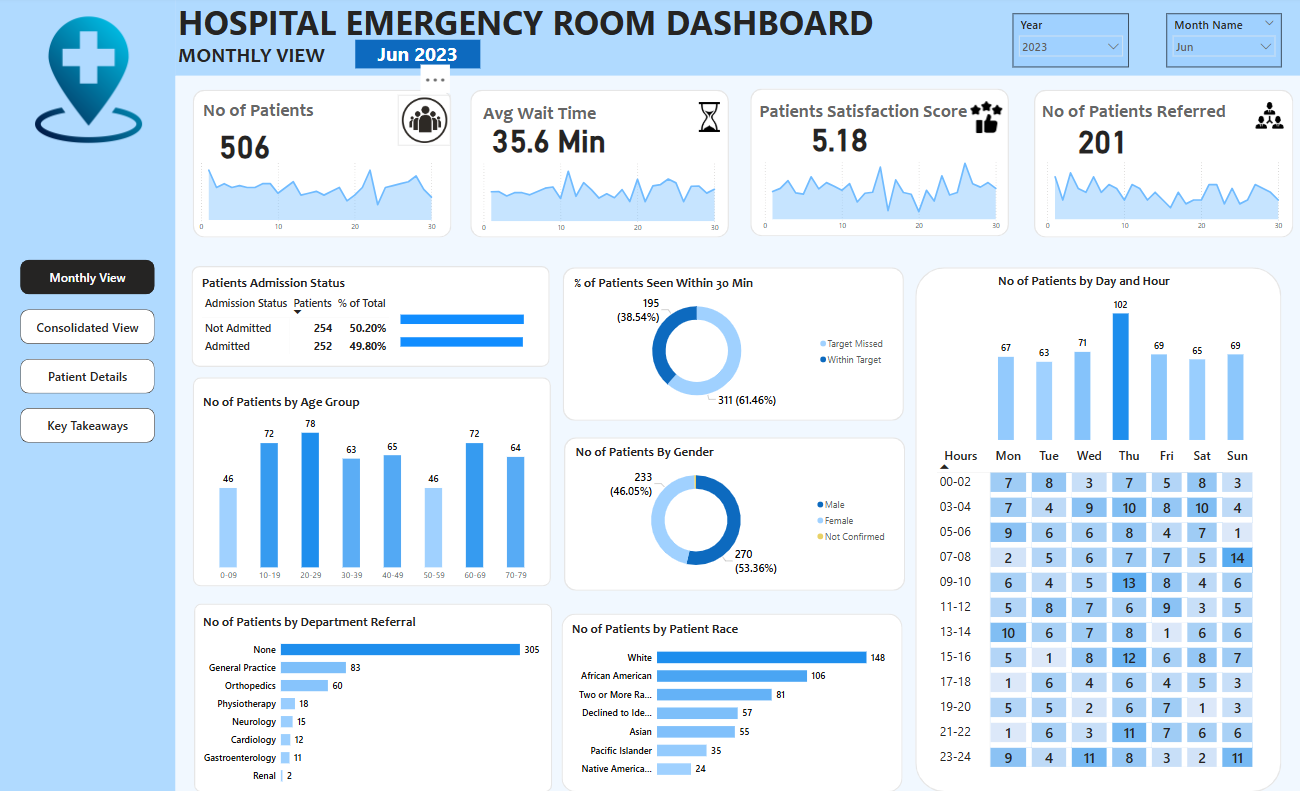

Layout of this report page (visuals, bound fields, positions):
{"tool":"powerbi","page":{"name":"Monthly View","canvas":[2300,1400],"ordinal":0},"visuals":[{"type":"shape","box":[340,164,455,260],"z":0},{"type":"card","fields":{"Values":["Hospital ER_Data.No Of Patients"]},"box":[353.3,206.7,155,105],"z":1000},{"type":"shape","box":[0,0,310,1400],"z":2000},{"type":"shape","box":[310,0,1990,140],"z":3000},{"type":"textbox","box":[310,0,1363.1,175.9],"z":4000},{"type":"textbox","box":[310,77.3,494,70.7],"z":5000},{"type":"slicer","fields":{"Values":["Date Table.Year"]},"box":[1782,30,204,94],"z":6000},{"type":"slicer","fields":{"Values":["Date Table.Month Name"]},"box":[2054,30,202,94],"z":7000},{"type":"areaChart","fields":{"Y":["Hospital ER_Data.No Of Patients"],"Category":["Date Table.Date.Variation.Date Hierarchy.Day"]},"box":[340,278.8,435,145],"z":8000},{"type":"card","fields":{"Values":["Min(Date Table.Month & Year)"]},"box":[626.6,76.9,219.9,50.6],"z":9000},{"type":"shape","box":[829.2,164.2,455,260],"z":10000},{"type":"shape","box":[1321.7,163.3,455,260],"z":11000},{"type":"shape","box":[1820,164,456,260],"z":12000},{"type":"textbox","box":[846.8,181.1,261.1,65.9],"z":13000},{"type":"card","fields":{"Values":["Hospital ER_Data.Avg Wait Time"]},"box":[855.2,213.3,224.2,70.4],"z":14000},{"type":"areaChart","fields":{"Category":["Date Table.Date.Variation.Date Hierarchy.Day"],"Y":["Avg(Hospital ER_Data.Patient Waittime)"]},"box":[838.3,280,435.8,145.8],"z":15000},{"type":"textbox","box":[1332.3,178.1,384.7,79.1],"z":16000},{"type":"card","fields":{"Values":["Hospital ER_Data.Satisfaction Score"]},"box":[1365.3,213.3,224.2,66],"z":17000},{"type":"areaChart","fields":{"Category":["Date Table.Date.Variation.Date Hierarchy.Day"],"Y":["Hospital ER_Data.Satisfaction Score"]},"box":[1332,278,436,146],"z":18000},{"type":"textbox","box":[1830,178,426,68],"z":19000},{"type":"card","fields":{"Values":["Hospital ER_Data.No Of Patients Referred"]},"box":[1829.2,208.9,224.2,83.5],"z":20000},{"type":"areaChart","fields":{"Category":["Date Table.Date.Variation.Date Hierarchy.Day"],"Y":["Hospital ER_Data.No Of Patients Referred"]},"box":[1830,278,436,146],"z":21000},{"type":"shape","box":[337.5,475,630,177.5],"z":22000},{"type":"pivotTable","title":"Patients Admission Status","fields":{"Rows":["Hospital ER_Data.Admission Status"],"Values":["Hospital ER_Data.No of Patients1","Hospital ER_Data.No of Patients"]},"box":[352.5,490,606.2,162.5],"z":23000},{"type":"barChart","fields":{"Category":["Hospital ER_Data.Admission Status"],"Y":["Hospital ER_Data.No of Patients"]},"box":[701.2,527.5,266.2,117.5],"z":24000},{"type":"shape","box":[341.2,671.2,630,368],"z":25000},{"type":"clusteredColumnChart","fields":{"Category":["Hospital ER_Data.Age Group"],"Y":["Hospital ER_Data.No of Patients"]},"box":[354,700,606,340],"z":26000},{"type":"shape","box":[342,1068,630,332],"z":27000},{"type":"clusteredBarChart","fields":{"Category":["Hospital ER_Data.Department Referral"],"Y":["Hospital ER_Data.No of Patients"]},"box":[354,1086,604,314],"z":28000},{"type":"shape","box":[992,478,600,270],"z":29000},{"type":"donutChart","title":"% of Patients Seen Within 30 Min","fields":{"Category":["Hospital ER_Data.WaitTime Status"],"Y":["Hospital ER_Data.No of Patients"]},"box":[1008,490,562,240],"z":30000},{"type":"shape","box":[993.2,776.4,600,270],"z":31000},{"type":"donutChart","title":"No of Patients By Gender","fields":{"Y":["Hospital ER_Data.No of Patients"],"Category":["Hospital ER_Data.Patient Gender"]},"box":[1009.1,787.5,562.8,241.8],"z":32000},{"type":"shape","box":[988.4,1085.5,600,314.5],"z":33000},{"type":"clusteredBarChart","fields":{"Y":["Hospital ER_Data.No of Patients"],"Category":["Hospital ER_Data.Patient Race"]},"box":[1001.4,1098.6,568.1,289.9],"z":34000},{"type":"shape","box":[1611.5,477.1,644.2,923.4],"z":35000},{"type":"pivotTable","fields":{"Rows":["Hospital ER_Data.Waittime Interval"],"Columns":["Date Table.Day Name"],"Values":["Hospital ER_Data.No of Patients"]},"box":[1644.5,787.1,600.2,584.8],"z":36000},{"type":"columnChart","title":"No of Patients by Day and Hour","fields":{"Category":["Date Table.Day Name"],"Y":["Hospital ER_Data.No of Patients"]},"box":[1752.2,485.9,444.1,301.2],"z":37000},{"type":"image","box":[39.6,30.8,235.2,233],"z":38000},{"type":"image","box":[1703.8,180.3,66,66],"z":39000},{"type":"image","box":[701.3,173.7,94.5,90.1],"z":40000},{"type":"image","box":[1207,175.9,85.7,72.6],"z":41000},{"type":"image","box":[2196.3,180.3,76.9,59.4],"z":42000},{"type":"textbox","box":[354,175.9,382.5,81.3],"z":43000},{"type":"pageNavigator","box":[37.4,463.9,237.4,323.2],"z":44000}]}

Visuals, with their boxes in screenshot pixels (x1, y1, x2, y2), scaled from the page's 2300x1400 canvas onto the 1300x791 screenshot:
shape: bbox(192, 93, 449, 240)
card - Hospital ER_Data.No Of Patients: bbox(200, 117, 287, 176)
shape: bbox(0, 0, 175, 790)
shape: bbox(175, 0, 1299, 79)
textbox: bbox(175, 0, 946, 99)
textbox: bbox(175, 44, 454, 84)
slicer - Date Table.Year: bbox(1007, 17, 1123, 70)
slicer - Date Table.Month Name: bbox(1161, 17, 1275, 70)
areaChart - Hospital ER_Data.No Of Patients x Date Table.Date.Variation.Date Hierarchy.Day: bbox(192, 158, 438, 239)
card - Min(Date Table.Month & Year): bbox(354, 43, 478, 72)
shape: bbox(469, 93, 726, 240)
shape: bbox(747, 92, 1004, 239)
shape: bbox(1029, 93, 1286, 240)
textbox: bbox(479, 102, 626, 140)
card - Hospital ER_Data.Avg Wait Time: bbox(483, 121, 610, 160)
areaChart - Date Table.Date.Variation.Date Hierarchy.Day x Avg(Hospital ER_Data.Patient Waittime): bbox(474, 158, 720, 241)
textbox: bbox(753, 101, 970, 145)
card - Hospital ER_Data.Satisfaction Score: bbox(772, 121, 898, 158)
areaChart - Date Table.Date.Variation.Date Hierarchy.Day x Hospital ER_Data.Satisfaction Score: bbox(753, 157, 999, 240)
textbox: bbox(1034, 101, 1275, 139)
card - Hospital ER_Data.No Of Patients Referred: bbox(1034, 118, 1161, 165)
areaChart - Date Table.Date.Variation.Date Hierarchy.Day x Hospital ER_Data.No Of Patients Referred: bbox(1034, 157, 1281, 240)
shape: bbox(191, 268, 547, 369)
"Patients Admission Status" pivotTable: bbox(199, 277, 542, 369)
barChart - Hospital ER_Data.Admission Status x Hospital ER_Data.No of Patients: bbox(396, 298, 547, 364)
shape: bbox(193, 379, 549, 587)
clusteredColumnChart - Hospital ER_Data.Age Group x Hospital ER_Data.No of Patients: bbox(200, 395, 543, 588)
shape: bbox(193, 603, 549, 790)
clusteredBarChart - Hospital ER_Data.Department Referral x Hospital ER_Data.No of Patients: bbox(200, 614, 541, 790)
shape: bbox(561, 270, 900, 423)
"% of Patients Seen Within 30 Min" donutChart: bbox(570, 277, 887, 412)
shape: bbox(561, 439, 901, 591)
"No of Patients By Gender" donutChart: bbox(570, 445, 888, 582)
shape: bbox(559, 613, 898, 790)
clusteredBarChart - Hospital ER_Data.No of Patients x Hospital ER_Data.Patient Race: bbox(566, 621, 887, 785)
shape: bbox(911, 270, 1275, 790)
pivotTable - Hospital ER_Data.Waittime Interval x Date Table.Day Name: bbox(929, 445, 1269, 775)
"No of Patients by Day and Hour" columnChart: bbox(990, 275, 1241, 445)
image: bbox(22, 17, 155, 149)
image: bbox(963, 102, 1000, 139)
image: bbox(396, 98, 450, 149)
image: bbox(682, 99, 731, 140)
image: bbox(1241, 102, 1285, 135)
textbox: bbox(200, 99, 416, 145)
pageNavigator: bbox(21, 262, 155, 445)
